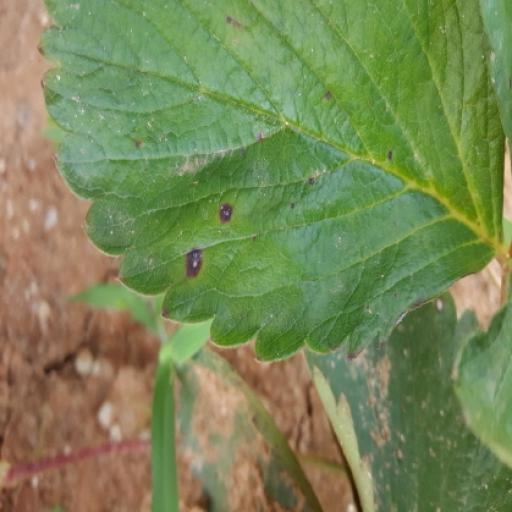Leaf Spot: (6, 149, 476, 511)
